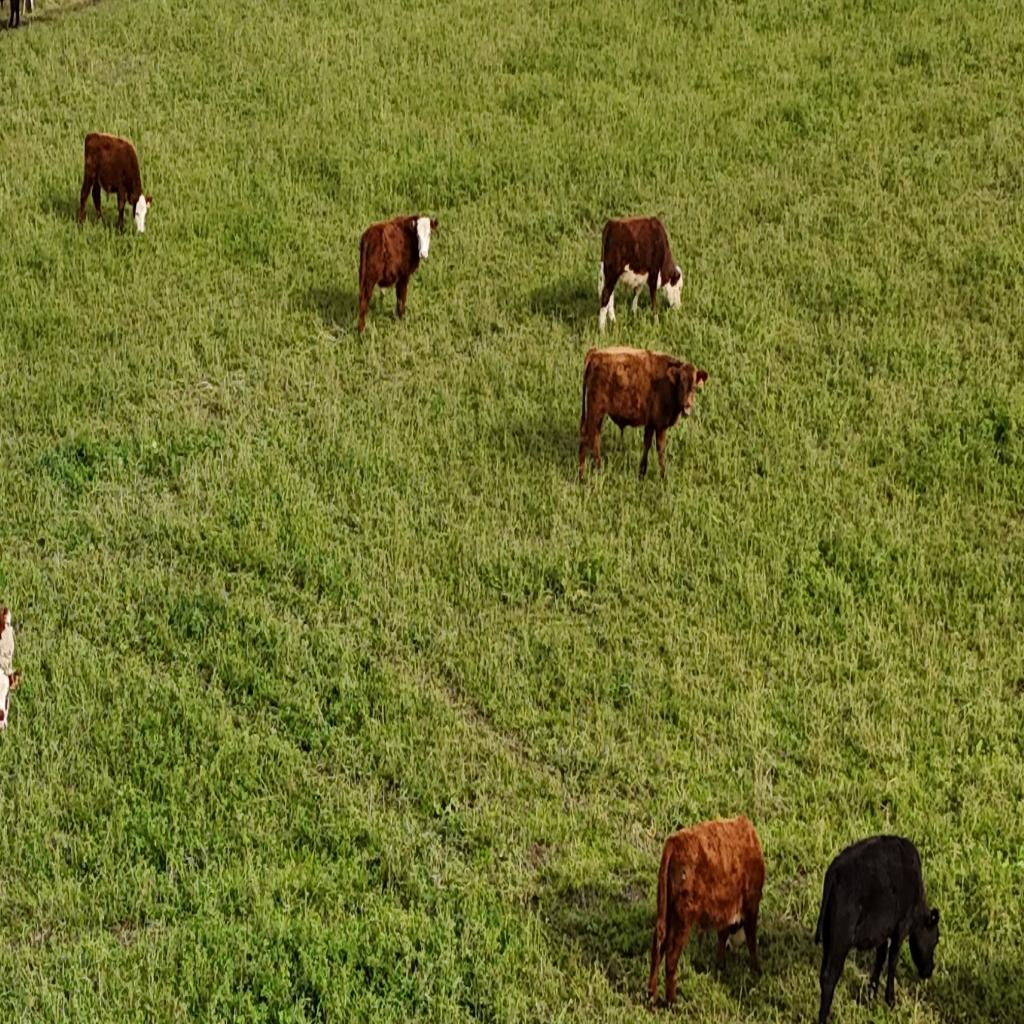cow: (810, 832, 942, 1022), (649, 812, 768, 1008), (581, 338, 711, 478), (356, 212, 446, 336), (596, 212, 686, 328), (78, 128, 152, 234)
